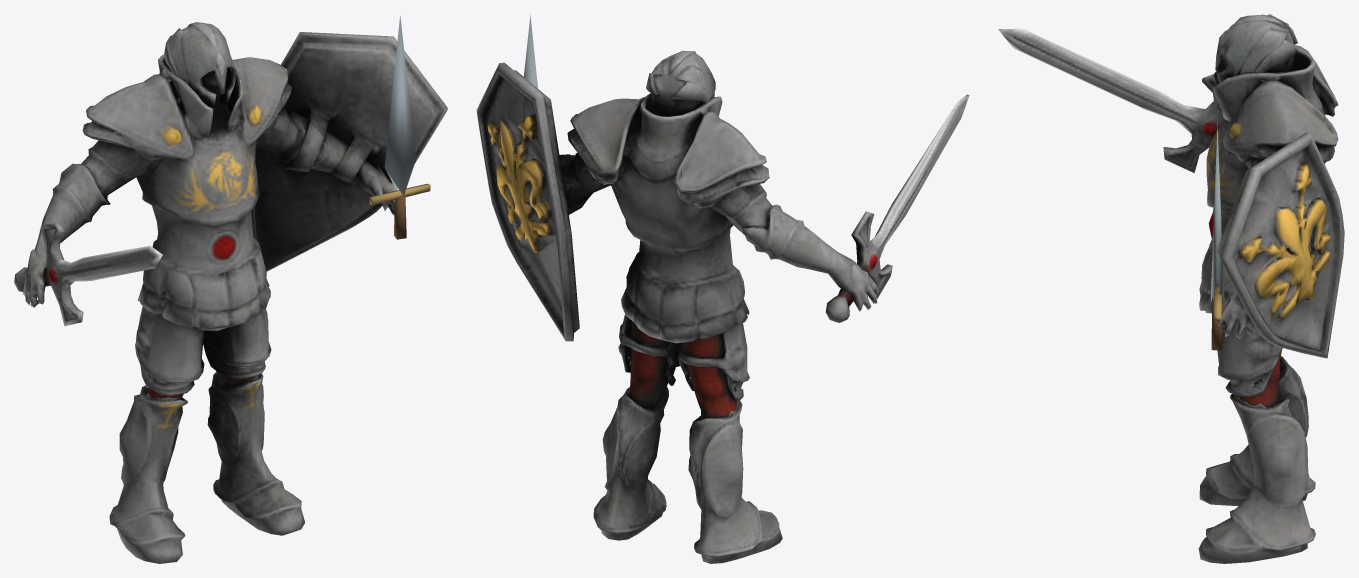
File: actor-swordsman-mobile.glb
3 renders of one model, left to right at view 1: azimuth 30°, elevation 25°; view 2: azimuth 150°, elevation 25°; view 3: azimuth 270°, elevation 25°, orthographic. The views are drawn at different scales.
Parts seen in each view (by area): view 1: Group61487.001 · posed; view 2: Group61487.001 · posed; view 3: Group61487.001 · posed.
Part boxes in pixels (x1,y1,x2,y2): Group61487.001 · posed: [14, 15, 447, 563]; Group61487.001 · posed: [476, 14, 969, 563]; Group61487.001 · posed: [998, 14, 1344, 563].
Size of the model in its own units: 1.72 by 2 by 1.22.
4 materials, 1 textured.
